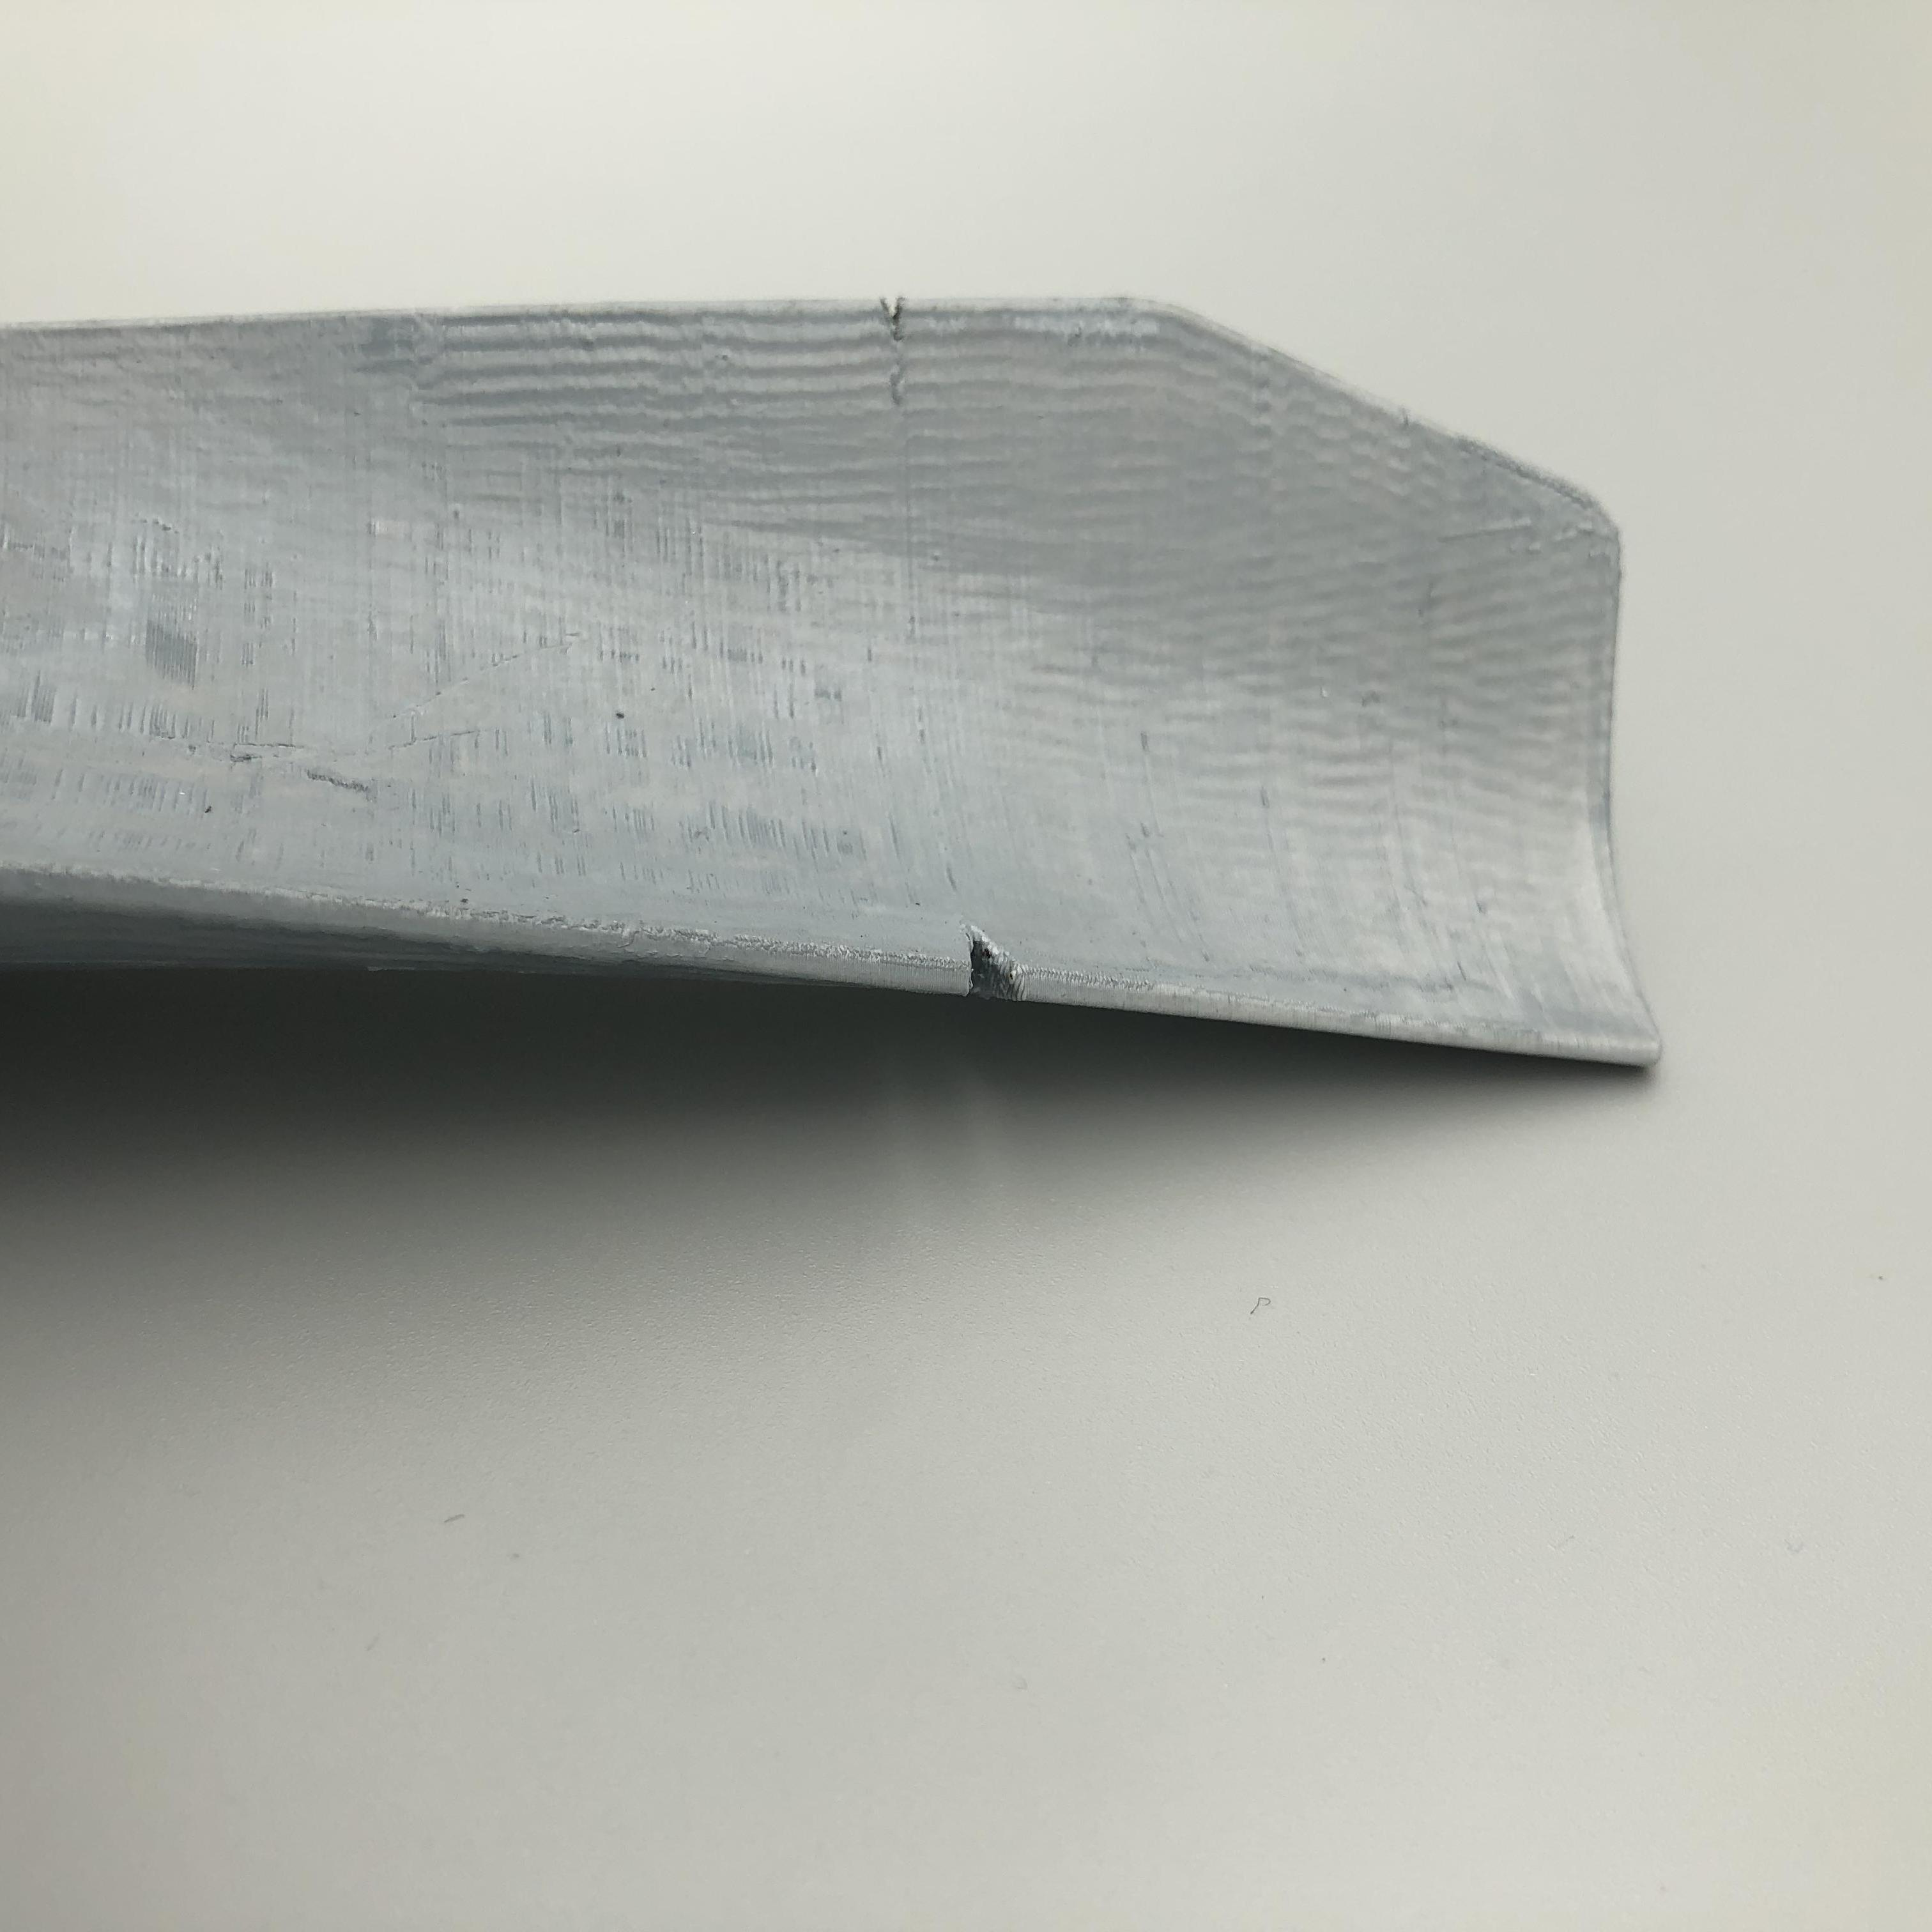groove: (959, 932, 1051, 1012), (874, 301, 918, 341)
